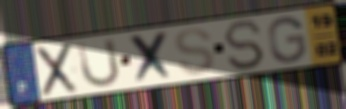G: (266, 15, 308, 65)
S: (221, 18, 267, 72), (173, 26, 218, 77)
U: (76, 37, 122, 90)
X: (127, 29, 177, 86), (35, 40, 80, 99)
